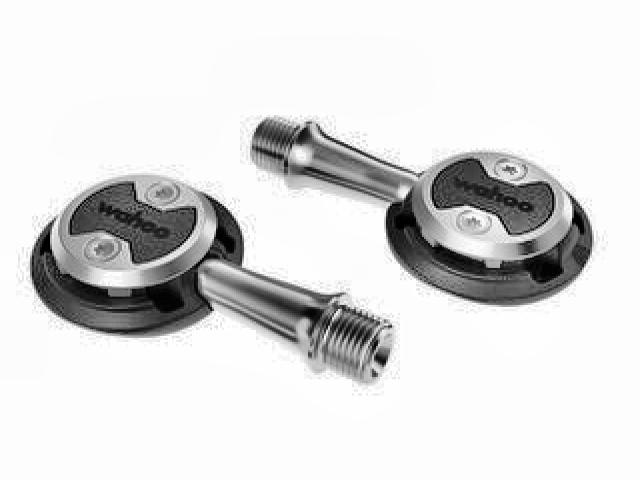pedal: (28, 168, 398, 388), (242, 97, 598, 311)
